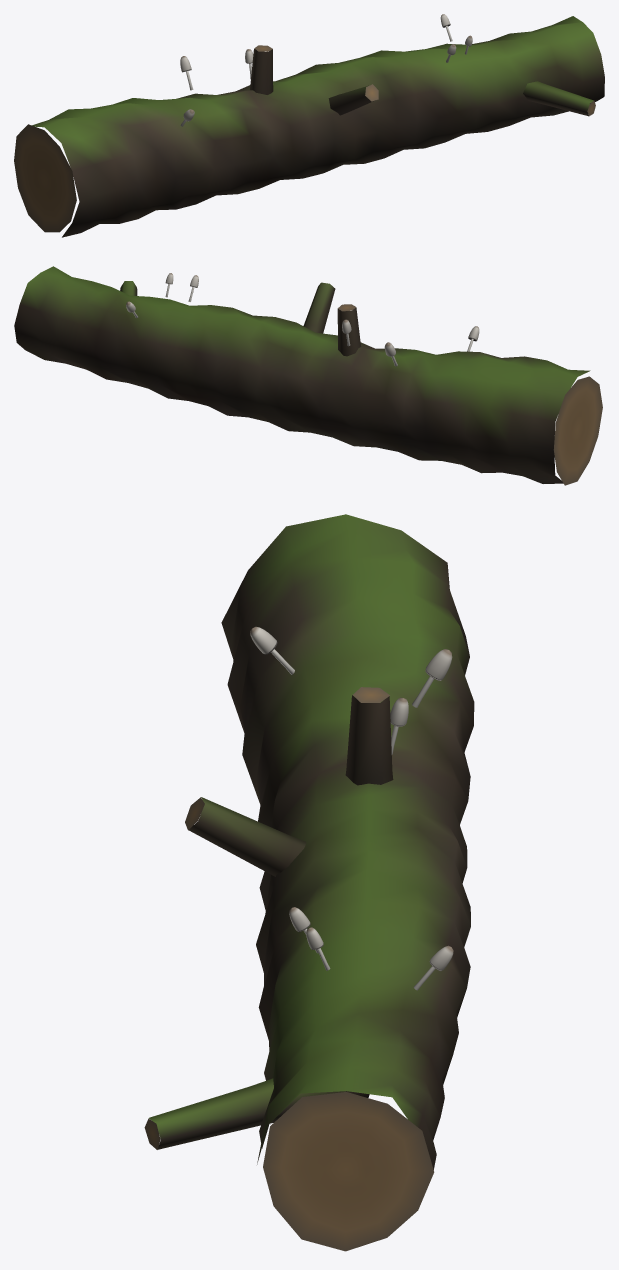
The model's file is log-mossy-b.lod0.glb.
3 renders of one model, top to bottom at view 1: azimuth 30°, elevation 25°; view 2: azimuth 150°, elevation 25°; view 3: azimuth 270°, elevation 25°, orthographic. The views are drawn at different scales.
Size of the model in its own units: 2.63 by 0.6105 by 0.6873.
